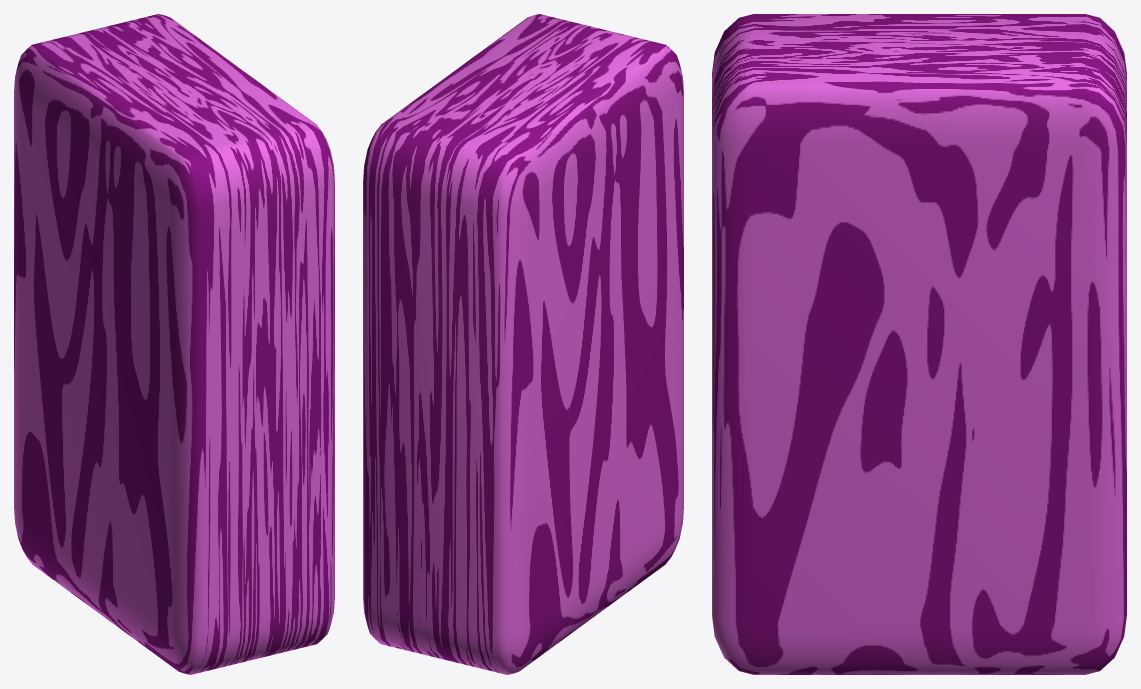
Rendered from yoga-block-camo-pink.glb.
The picture shows the model from 3 angles, left to right: view 1: azimuth 30°, elevation 25°; view 2: azimuth 150°, elevation 25°; view 3: azimuth 270°, elevation 25°; orthographic projection. The views are drawn at different scales.
Visible parts, largest first — view 1: Green-camo-yoga-block; view 2: Green-camo-yoga-block; view 3: Green-camo-yoga-block.
Part boxes in pixels (x1,y1,x2,y2): Green-camo-yoga-block: (14, 14, 334, 674); Green-camo-yoga-block: (363, 14, 683, 674); Green-camo-yoga-block: (712, 14, 1126, 674).
Bounding box in the file's own units: 0.07 × 0.22 × 0.14.
Materials: 1 (1 with a texture image).
